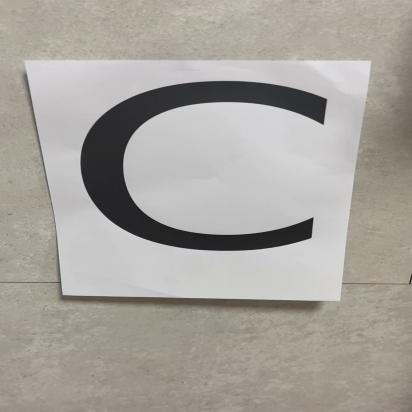seat: (51, 59, 339, 296)
